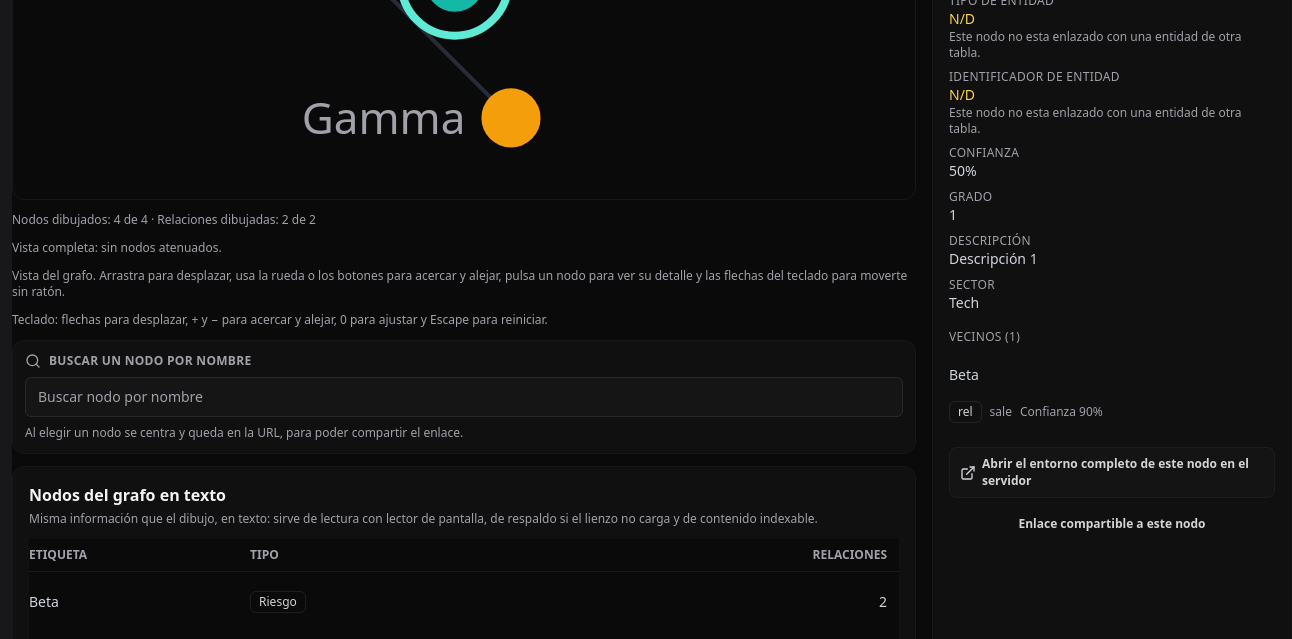
KnowledgeGraphCanvas: aislar, reiniciar, buscar › reiniciar vacía búsqueda, desaísla y quita el foco
(page scrolled)
Step 1. Type "beta" into the search field with test id "kg-search" → (464, 397), box [25,377,903,417]
(page scrolled)
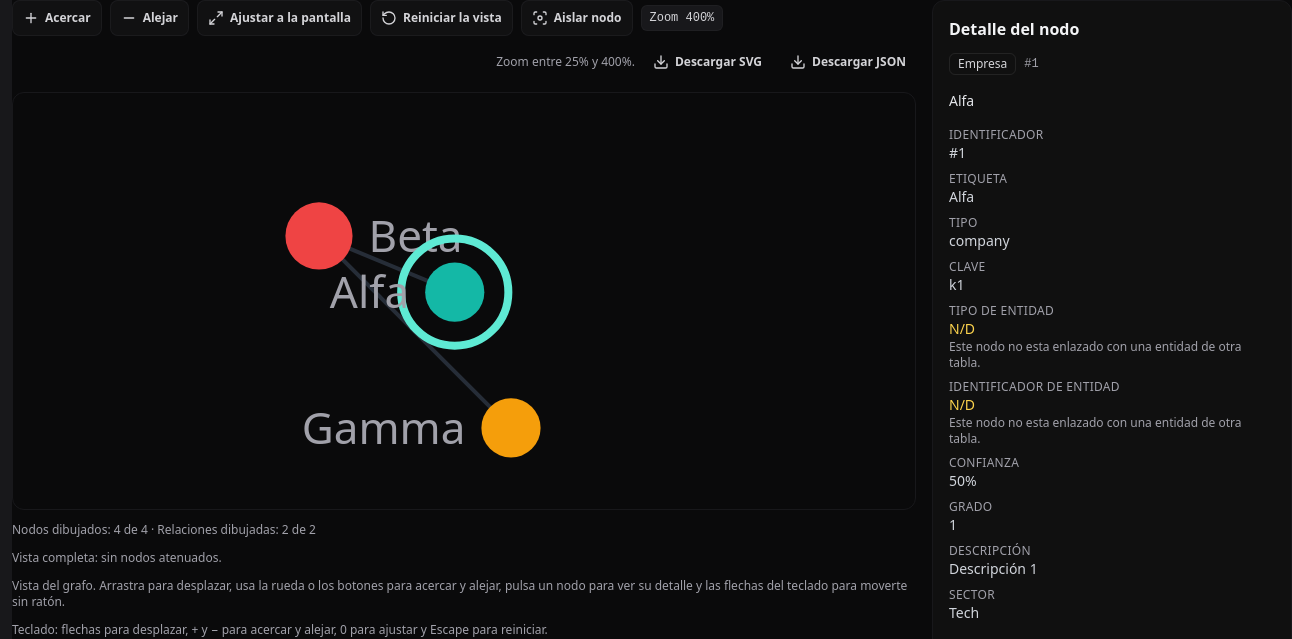
Step 2. Click the button with test id "kg-reset" → (441, 18), box [370,0,513,36]
(page scrolled)
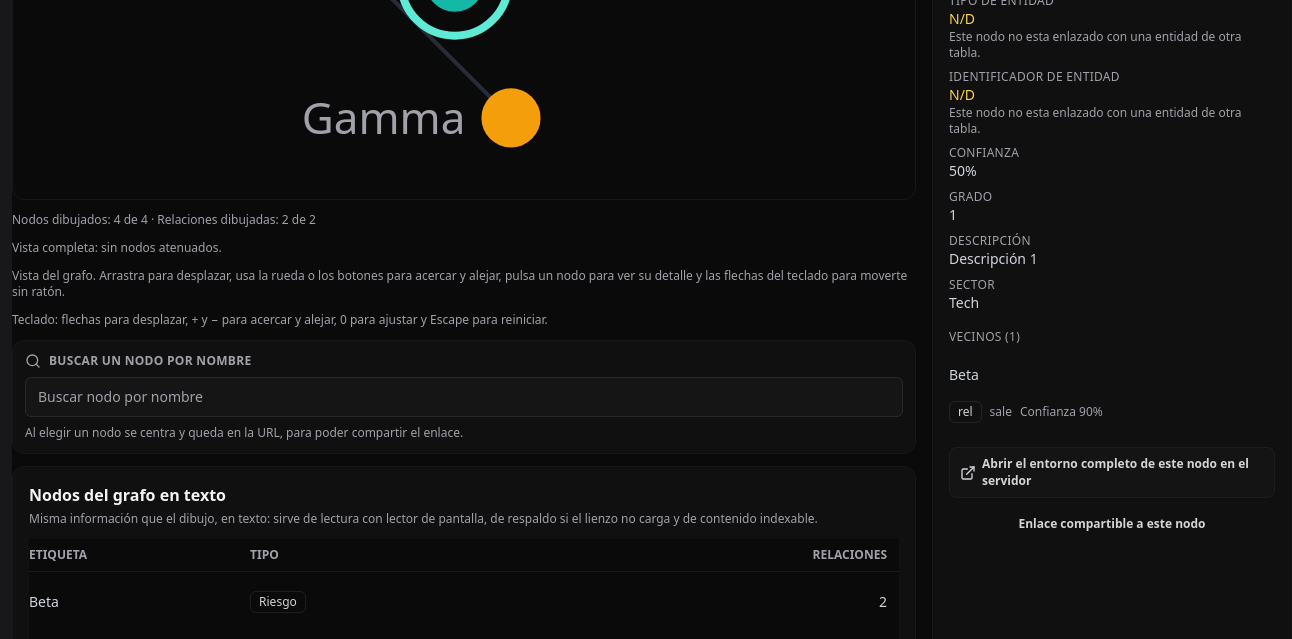
Now the search field with test id "kg-search" is empty, box [25,377,903,417]
